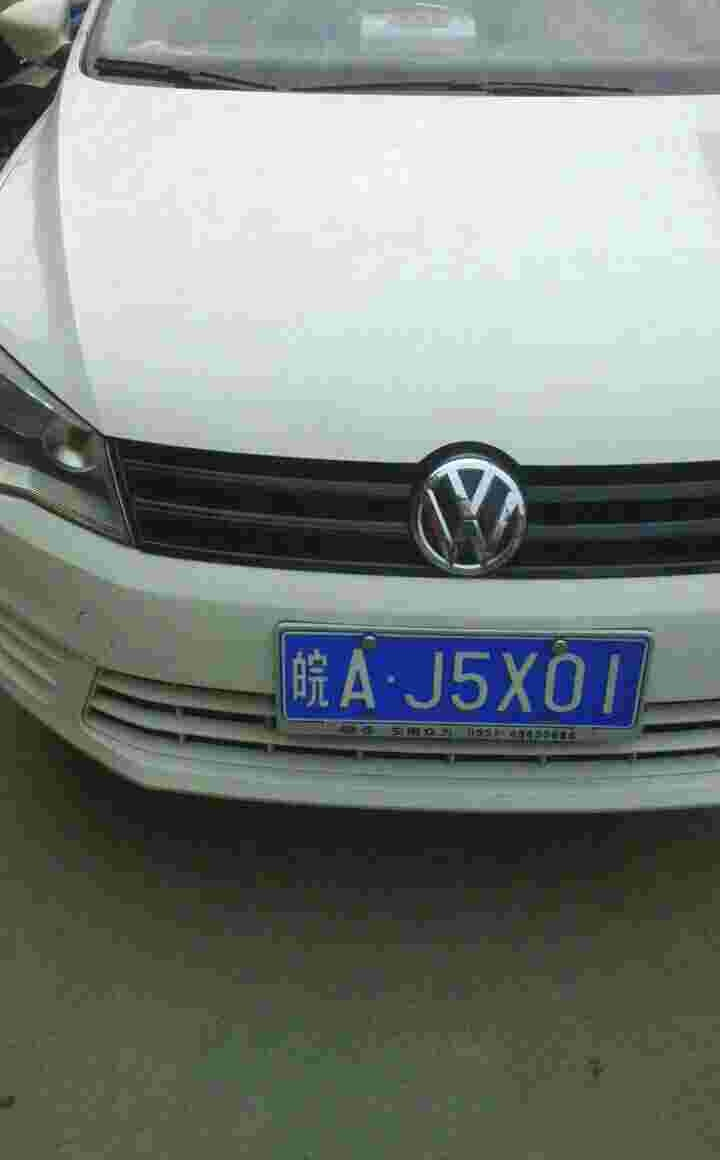license_plate: (263, 640, 650, 732)
